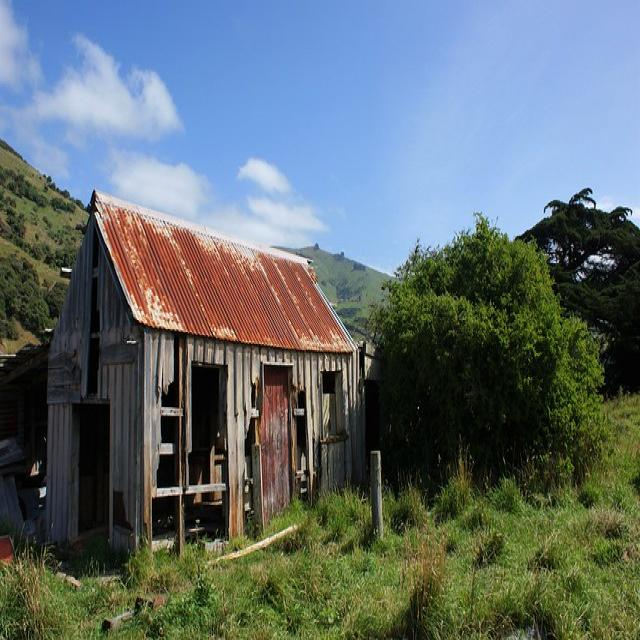Normal_building: (39, 186, 366, 586)
